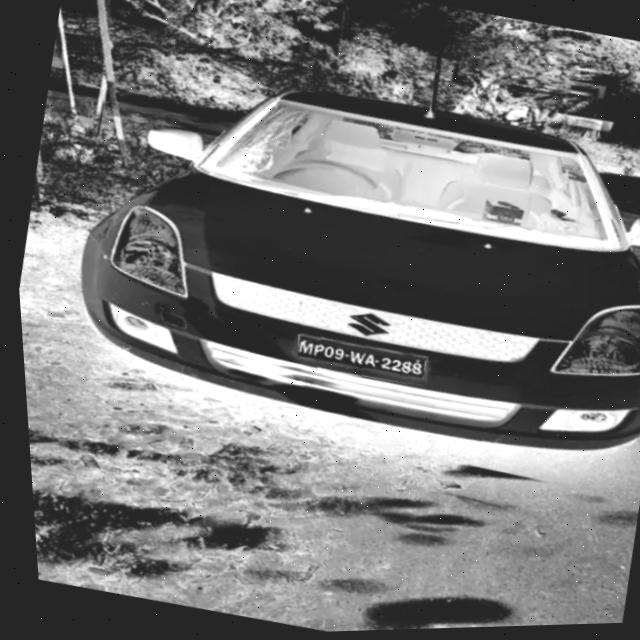Non_registered: (286, 328, 426, 395)
